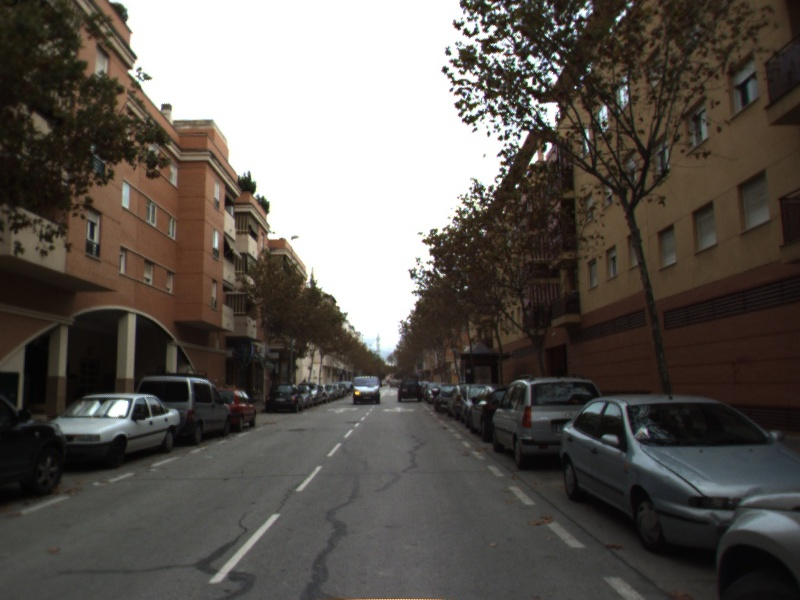STRAIGHT_LEFT_RIGHT: (380, 405, 418, 414)
